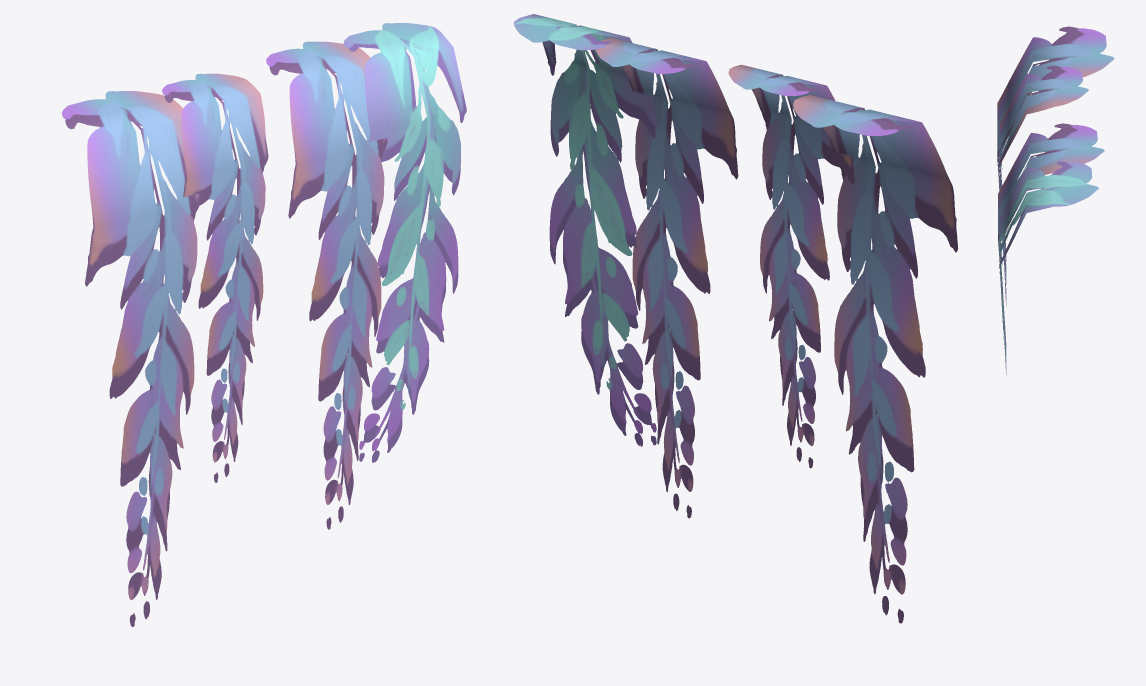
The model's file is Flowers Pot b.FBX.
The picture shows the model from 3 angles, left to right: view 1: azimuth 30°, elevation 25°; view 2: azimuth 150°, elevation 25°; view 3: azimuth 270°, elevation 25°; orthographic projection. The views are drawn at different scales.
Visible parts, largest first — view 1: Plane001, Plane009, Plane008, Plane006; view 2: Plane001, Plane009, Plane008, Plane006; view 3: Plane001, Plane008, Plane009, Plane006.
Part boxes in pixels (left/top/right/bottom): Plane001: left=62, top=91, right=200, bottom=626; Plane009: left=266, top=41, right=387, bottom=529; Plane008: left=343, top=23, right=466, bottom=462; Plane006: left=162, top=73, right=268, bottom=482; Plane001: left=793, top=95, right=958, bottom=623; Plane009: left=595, top=38, right=738, bottom=518; Plane008: left=513, top=14, right=656, bottom=446; Plane006: left=728, top=64, right=854, bottom=468; Plane001: left=997, top=26, right=1114, bottom=306; Plane008: left=999, top=161, right=1098, bottom=373; Plane009: left=998, top=123, right=1104, bottom=375; Plane006: left=999, top=65, right=1088, bottom=277.
Size of the model in its own units: 11.51 by 14.96 by 3.28.
